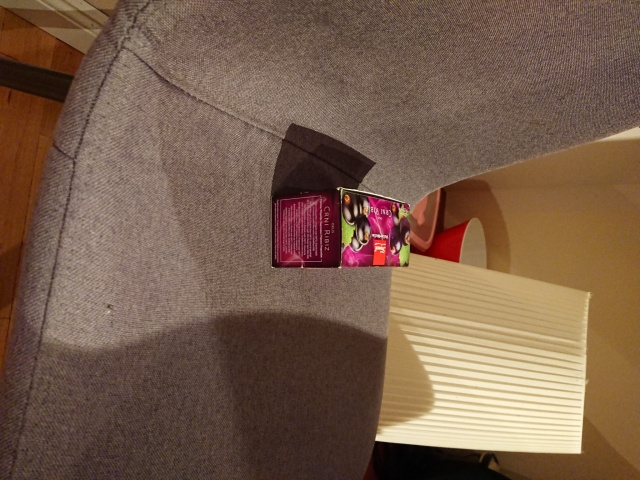Franck Black Currant Tea 60g: (268, 184, 414, 271)
